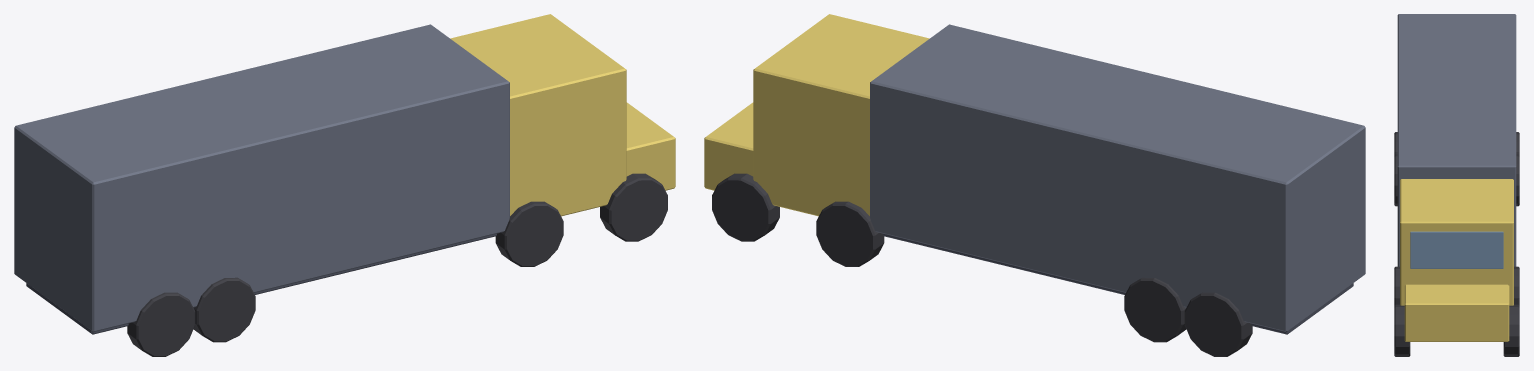
Rendered from tir.glb.
3 views of the same model, side by side, from view 1: azimuth 30°, elevation 25°; view 2: azimuth 150°, elevation 25°; view 3: azimuth 270°, elevation 25° (orthographic). The views are drawn at different scales.
Parts seen in each view (by area): view 1: Tir; view 2: Tir; view 3: Tir.
Boxes of the visible parts, <box> form: Tir: <box>14,14,675,356</box>; Tir: <box>704,14,1365,356</box>; Tir: <box>1394,14,1519,356</box>.
Bounding box in the file's own units: 15.51 × 4.79 × 3.83.
